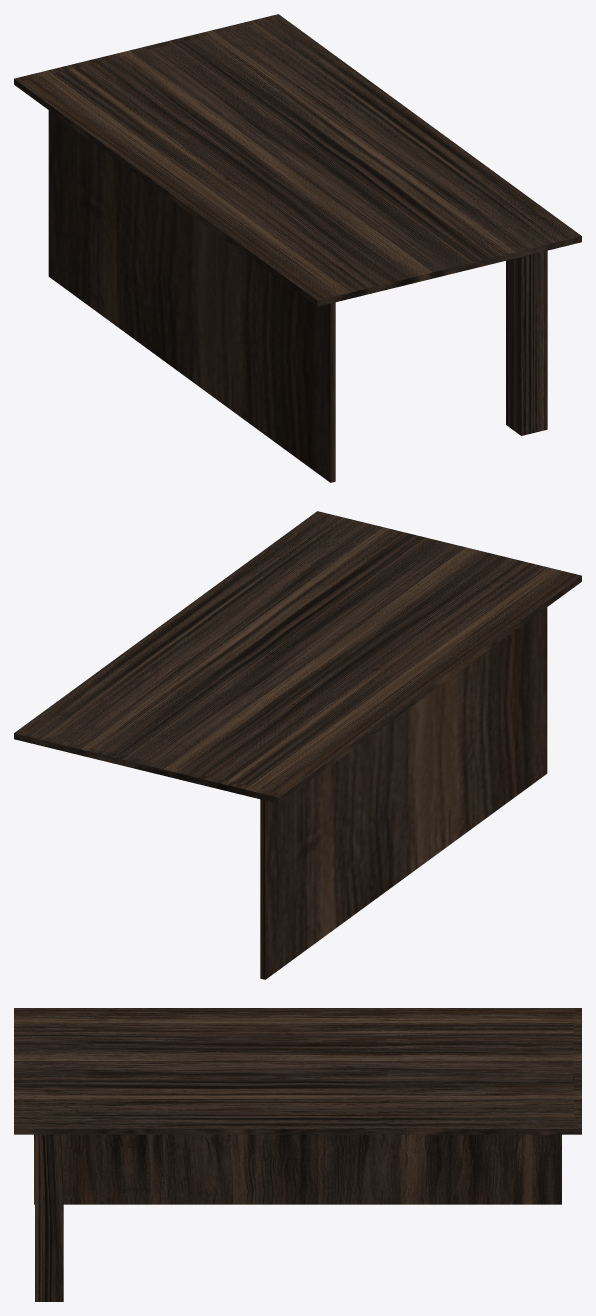
File: desk_texture.glb
3 renders of one model, top to bottom at view 1: azimuth 30°, elevation 25°; view 2: azimuth 150°, elevation 25°; view 3: azimuth 270°, elevation 25°, orthographic. The views are drawn at different scales.
Visible parts, largest first — view 1: deskboard, backboard, leg; view 2: deskboard, backboard; view 3: deskboard, backboard, leg.
Boxes of the visible parts, bbox=[...] form: deskboard: bbox=[14, 14, 581, 306]; backboard: bbox=[48, 110, 335, 482]; leg: bbox=[506, 250, 547, 435]; deskboard: bbox=[14, 511, 581, 803]; backboard: bbox=[260, 607, 547, 979]; deskboard: bbox=[14, 1008, 581, 1134]; backboard: bbox=[34, 1134, 561, 1204]; leg: bbox=[35, 1134, 63, 1301].
Size of the model in its own units: 1 by 0.7078 by 1.99.
1 material, 1 textured.
